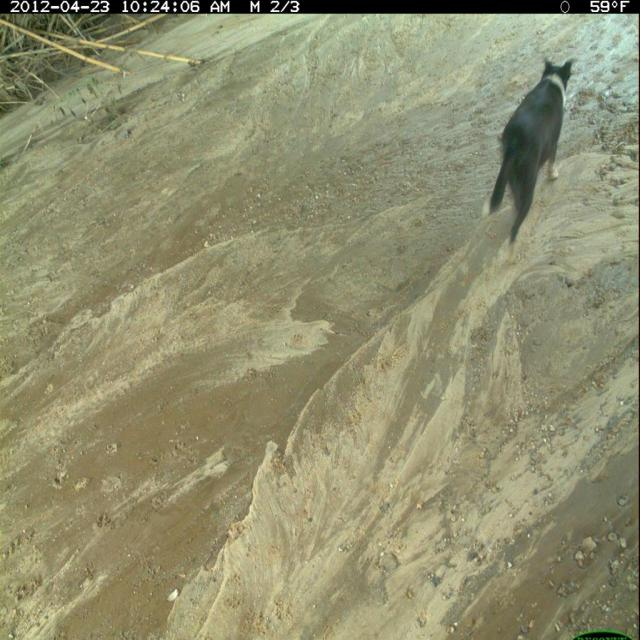dog: (478, 54, 582, 265)
